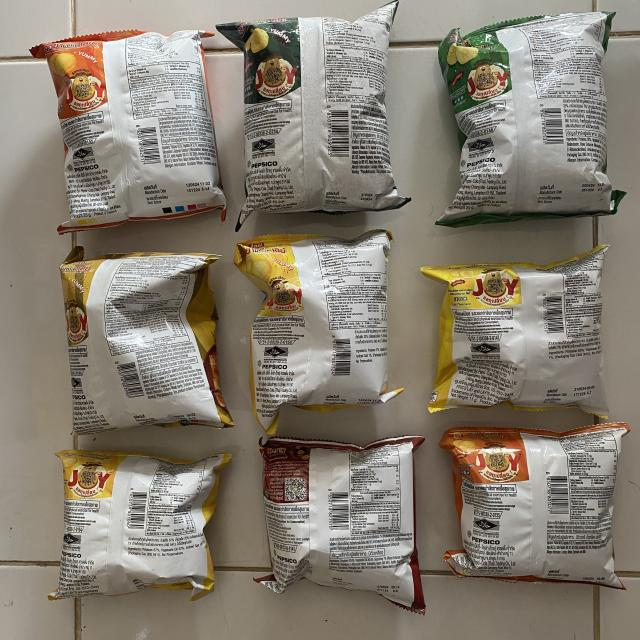plastik: (216, 1, 408, 230), (438, 12, 625, 226), (30, 30, 225, 234), (234, 230, 401, 432), (421, 245, 609, 418), (60, 246, 232, 435), (440, 424, 629, 589), (260, 436, 425, 612), (48, 450, 230, 600)
